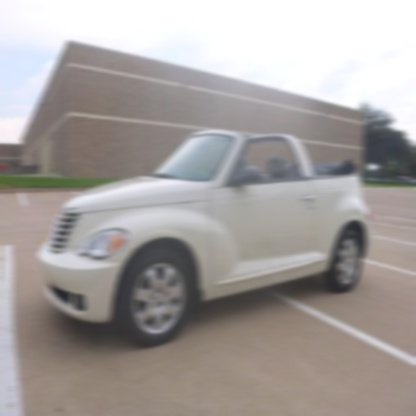Vehicle: (36, 127, 374, 349)
